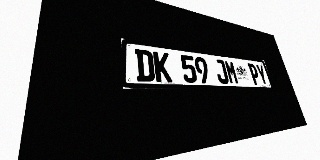5: (180, 55, 198, 83)
9: (193, 56, 211, 83)
D: (135, 49, 155, 82)
J: (213, 59, 229, 84)
K: (153, 51, 172, 82)
M: (224, 60, 239, 84)
P: (247, 63, 261, 85)
Y: (255, 64, 269, 85)
